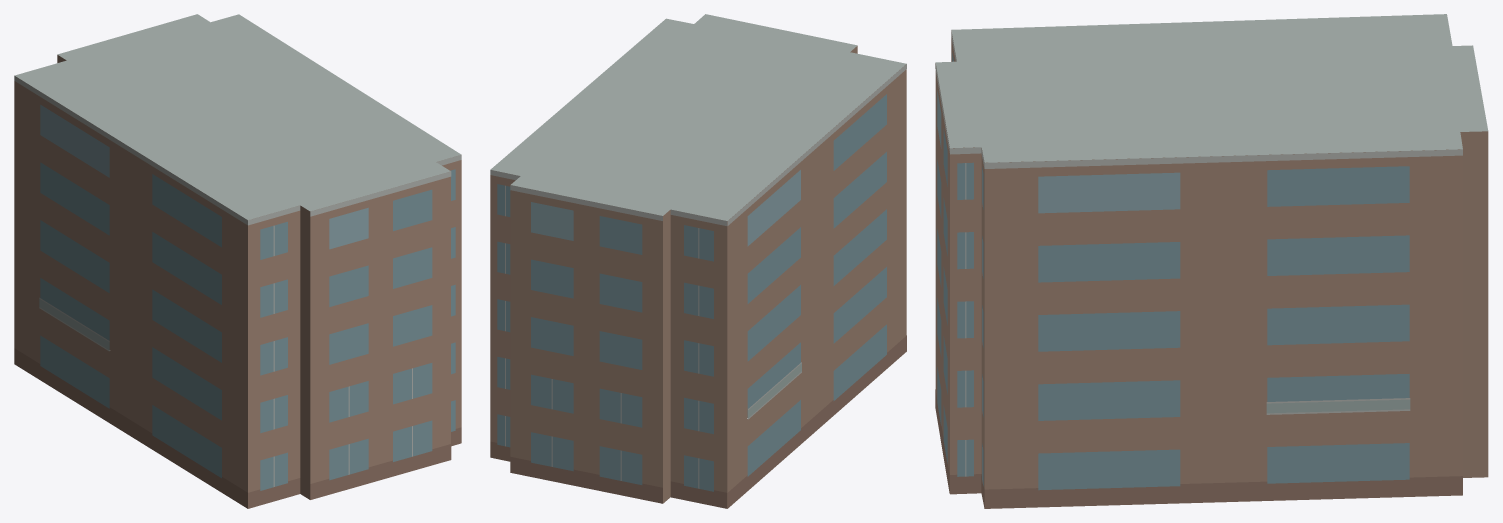
The model's file is survey-upis-32527992.glb.
3 renders of one model, left to right at view 1: azimuth 30°, elevation 25°; view 2: azimuth 150°, elevation 25°; view 3: azimuth 270°, elevation 25°, orthographic. The views are drawn at different scales.
Visible parts, largest first — view 1: survey-upis-32527992.tmp; view 2: survey-upis-32527992.tmp; view 3: survey-upis-32527992.tmp.
Part boxes in pixels (x1,y1,x2,y2): survey-upis-32527992.tmp: (14,14,461,508); survey-upis-32527992.tmp: (490,14,906,508); survey-upis-32527992.tmp: (935,14,1488,508).
Bounding box in the file's own units: 12.41 × 13.45 × 19.48.
